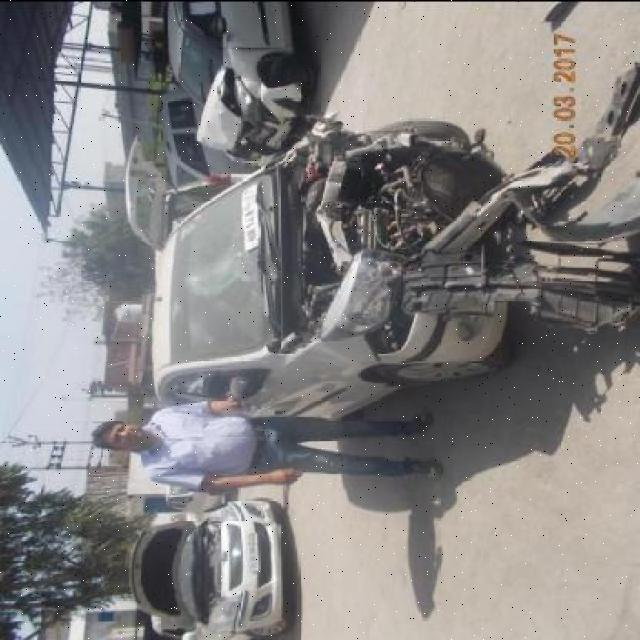damage: (286, 102, 532, 379)
